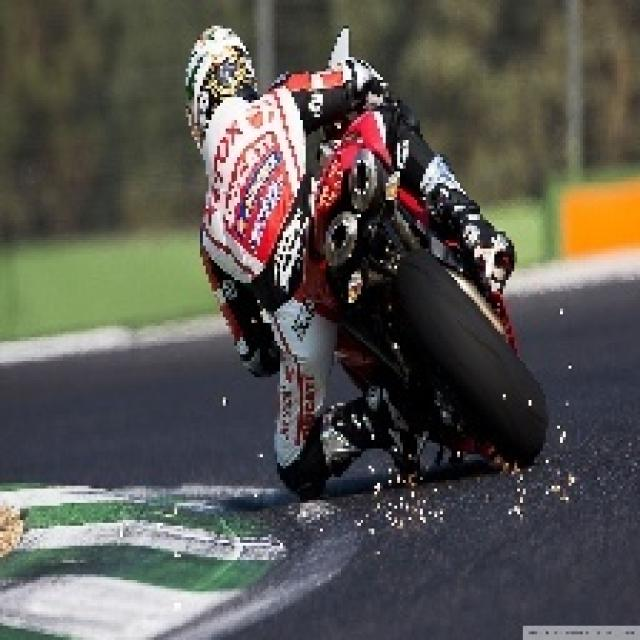motorace: (155, 0, 558, 482)
